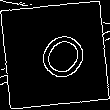O_SW: (22, 21, 88, 89)
